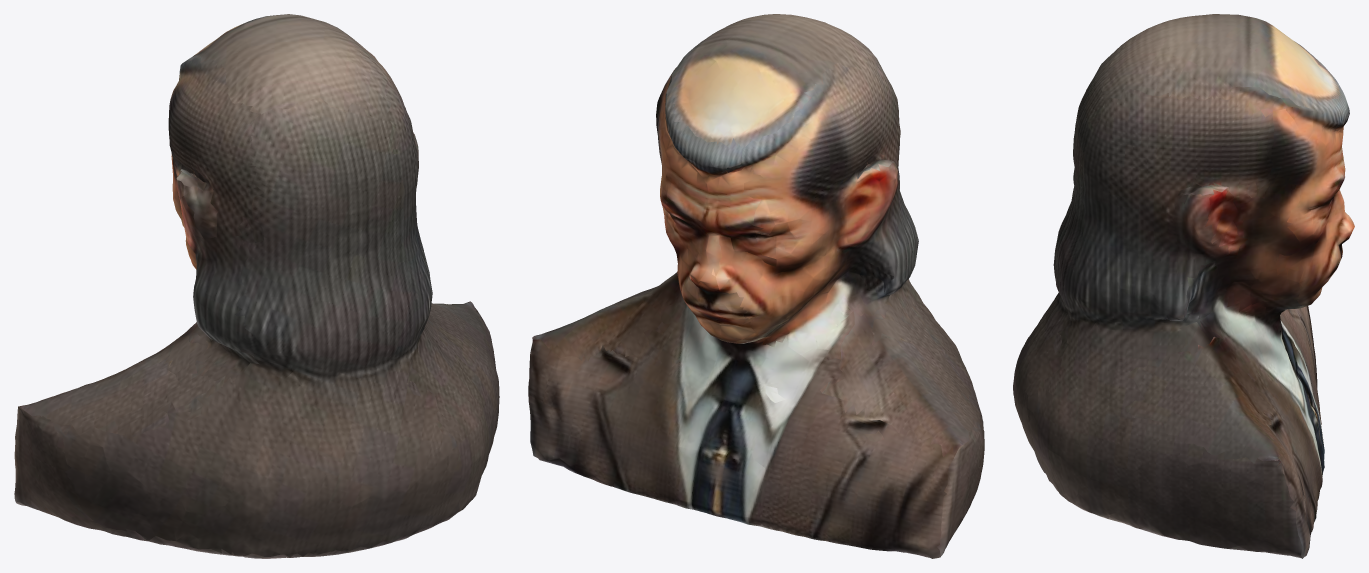
Rendered from pawahara.glb.
The picture shows the model from 3 angles, left to right: view 1: azimuth 30°, elevation 25°; view 2: azimuth 150°, elevation 25°; view 3: azimuth 270°, elevation 25°; orthographic projection. The views are drawn at different scales.
Parts seen in each view (by area): view 1: world; view 2: world; view 3: world.
Part boxes in pixels (bbox=[...]): world: bbox=[14, 14, 499, 558]; world: bbox=[528, 14, 984, 558]; world: bbox=[1013, 14, 1354, 558].
Size of the model in its own units: 0.8663 by 0.861 by 0.5977.
1 material, 1 textured.
